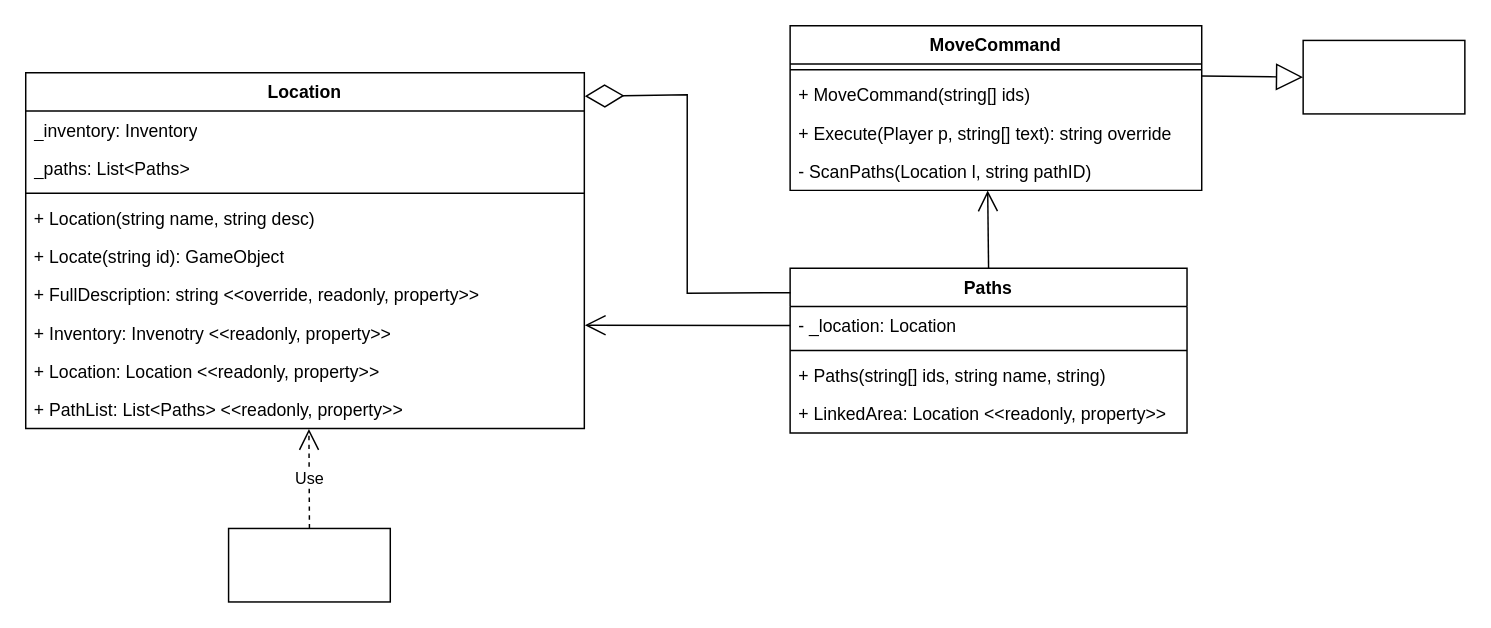
This 1491x628 diagram has some shape labels left out. Here are the shapes that lost their labels. From the top down, the centre of each, then its label:
pixel 1383 76: Command
pixel 308 564: LookCommand
